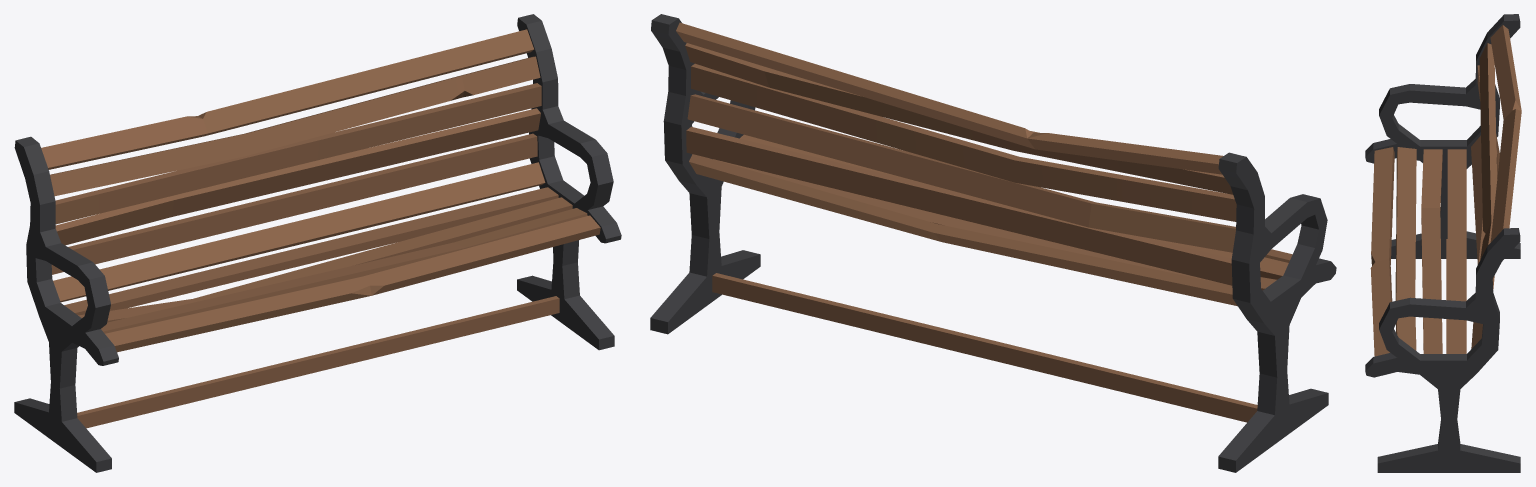
File: bench.glb
3 renders of one model, left to right at view 1: azimuth 30°, elevation 25°; view 2: azimuth 150°, elevation 25°; view 3: azimuth 270°, elevation 25°, orthographic. The views are drawn at different scales.
Parts seen in each view (by area): view 1: SM_Prop_ParkBench_01; view 2: SM_Prop_ParkBench_01; view 3: SM_Prop_ParkBench_01.
Part boxes in pixels (bbox=[...]): SM_Prop_ParkBench_01: bbox=[14, 14, 621, 472]; SM_Prop_ParkBench_01: bbox=[650, 14, 1336, 472]; SM_Prop_ParkBench_01: bbox=[1365, 14, 1521, 472].
Bounding box in the file's own units: 2.08 × 1.05 × 0.6236.
1 material, 1 textured.
